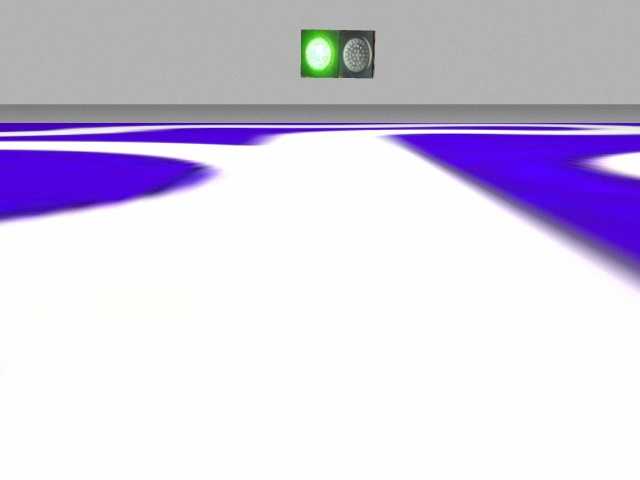green: (301, 28, 341, 78)
